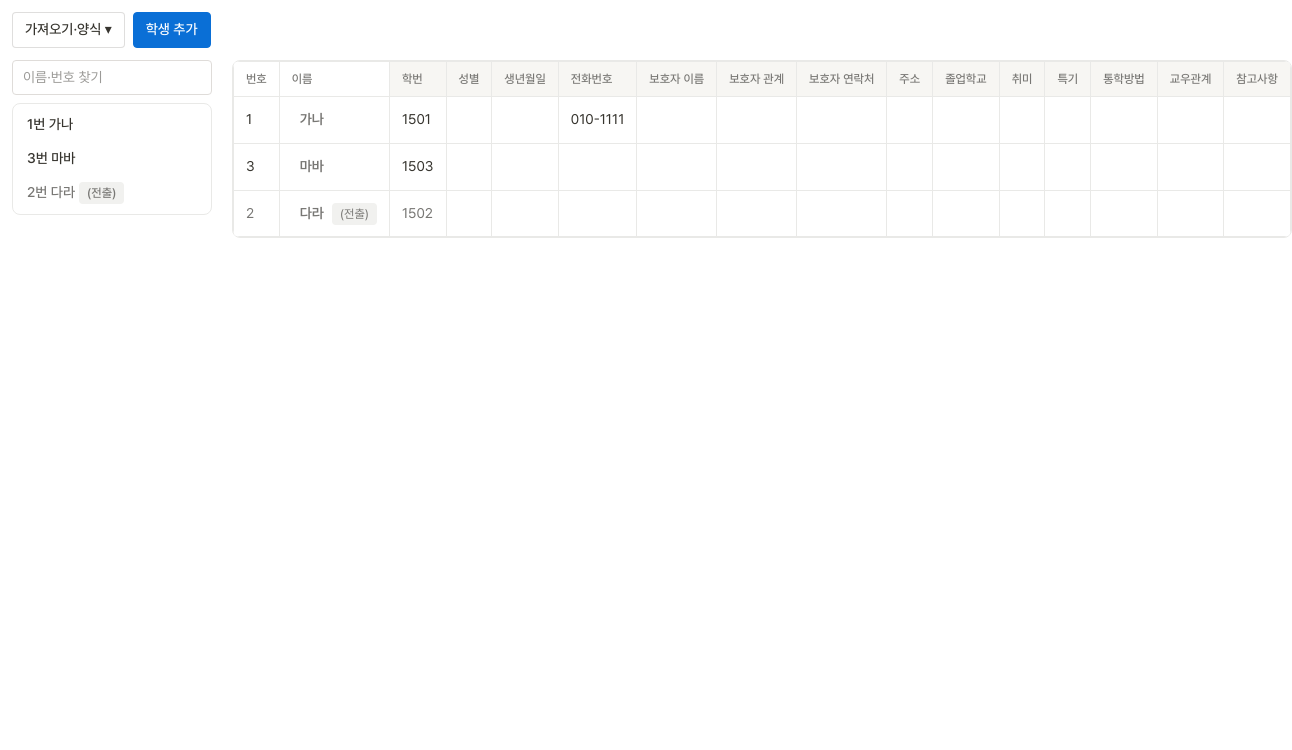
Scenario: 양식 고치기: 기본 칸과 겹치는 이름은 더할 수 없다
Expected: the table named "학생 전체" is shown, [233,61,1291,237]
Click the heading "가져오기·양식 ▾": {"x": 68, "y": 30} [12,12,125,48]
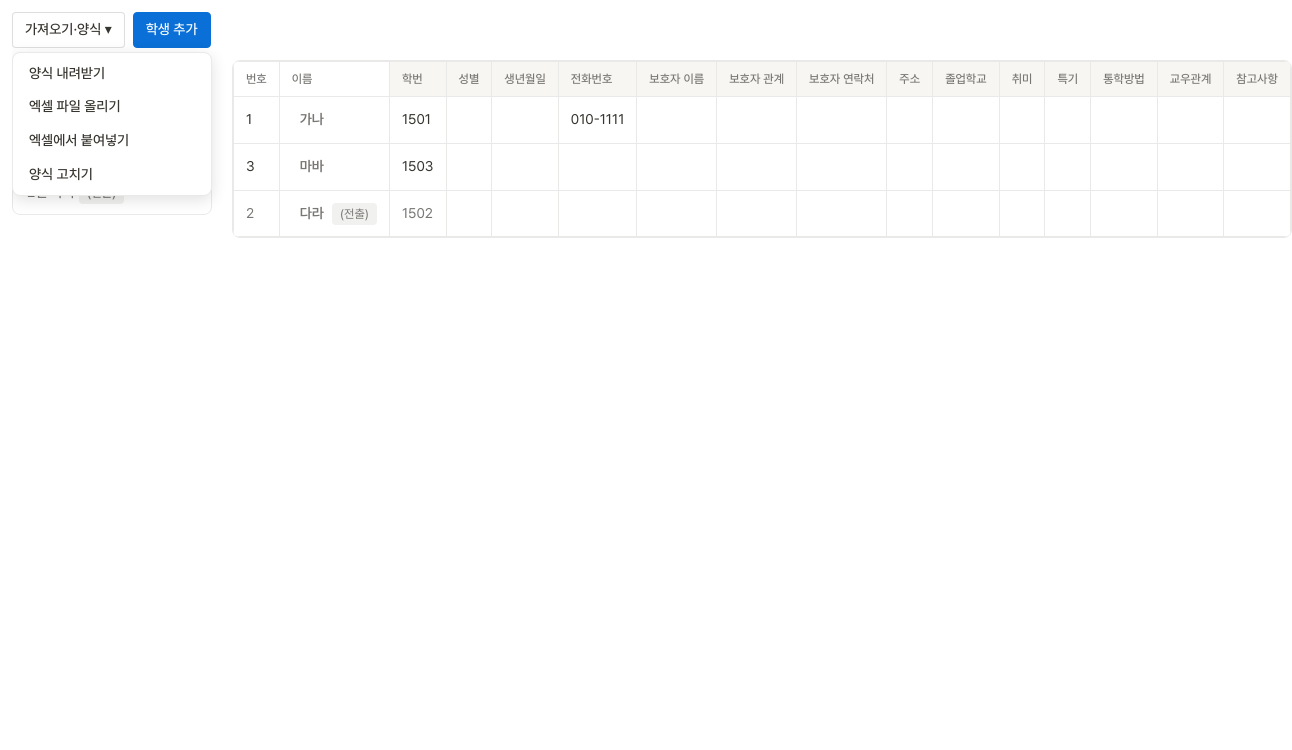
Click the button "양식 고치기": {"x": 112, "y": 175} [17,158,207,192]
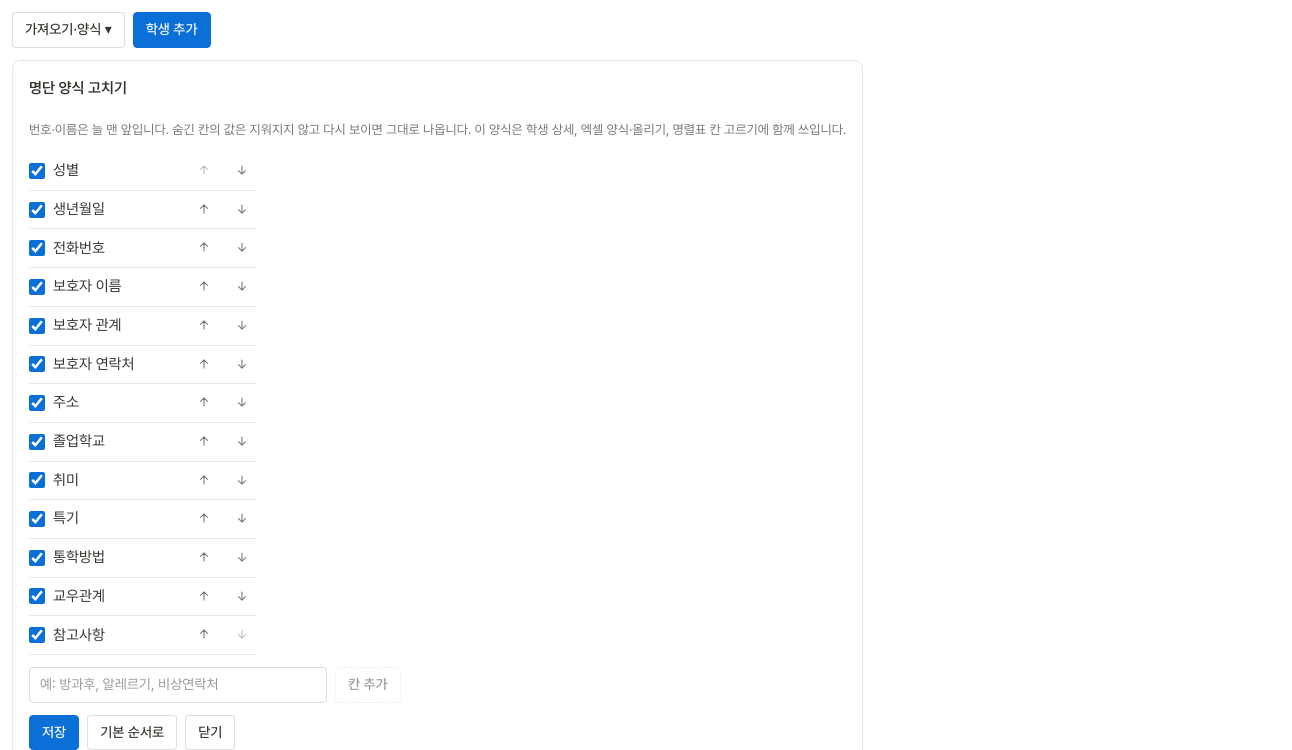
In the field named "새 칸 이름": {"x": 178, "y": 685} [29,667,327,703], type "연락처"
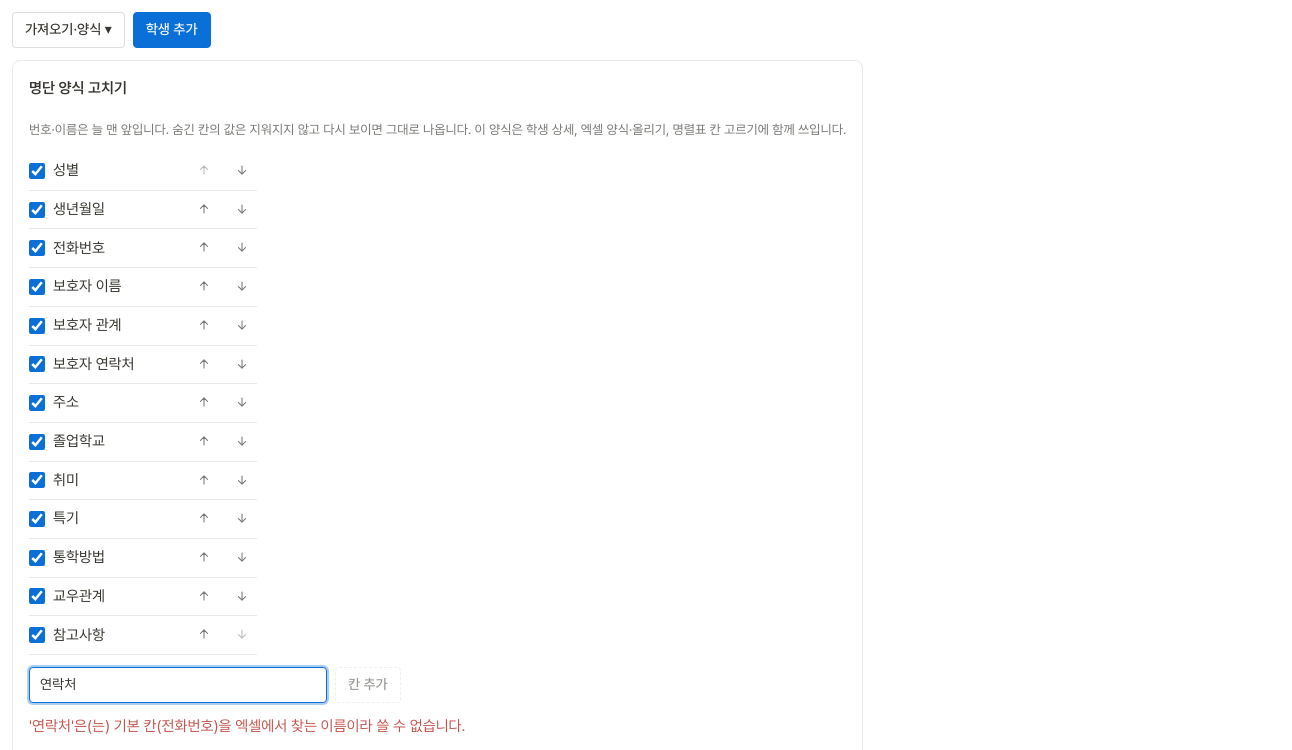
Now the button "칸 추가" is disabled, box [335,667,401,703]
Now the text "'연락처'은(는) 기본 칸(전화번호)을 엑셀에서 찾는 이름이라 쓸 수 없습니다." is shown, box [29,715,465,738]
